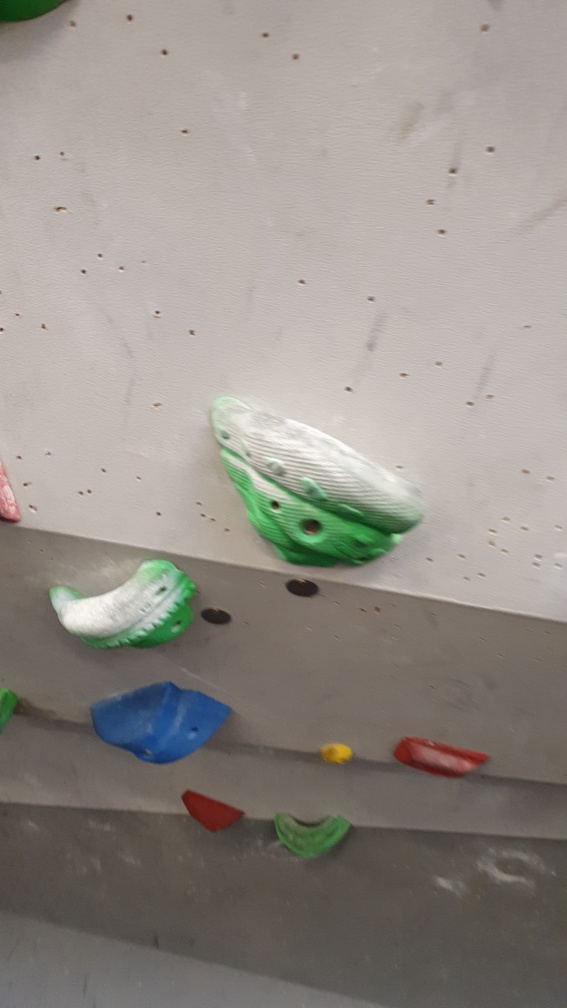Crimp: (392, 729, 493, 789)
Hand Start: (196, 600, 237, 631), (279, 575, 320, 601)
Jug: (204, 389, 426, 573), (45, 544, 202, 654), (264, 804, 360, 865)
Pinch: (86, 667, 237, 768)
